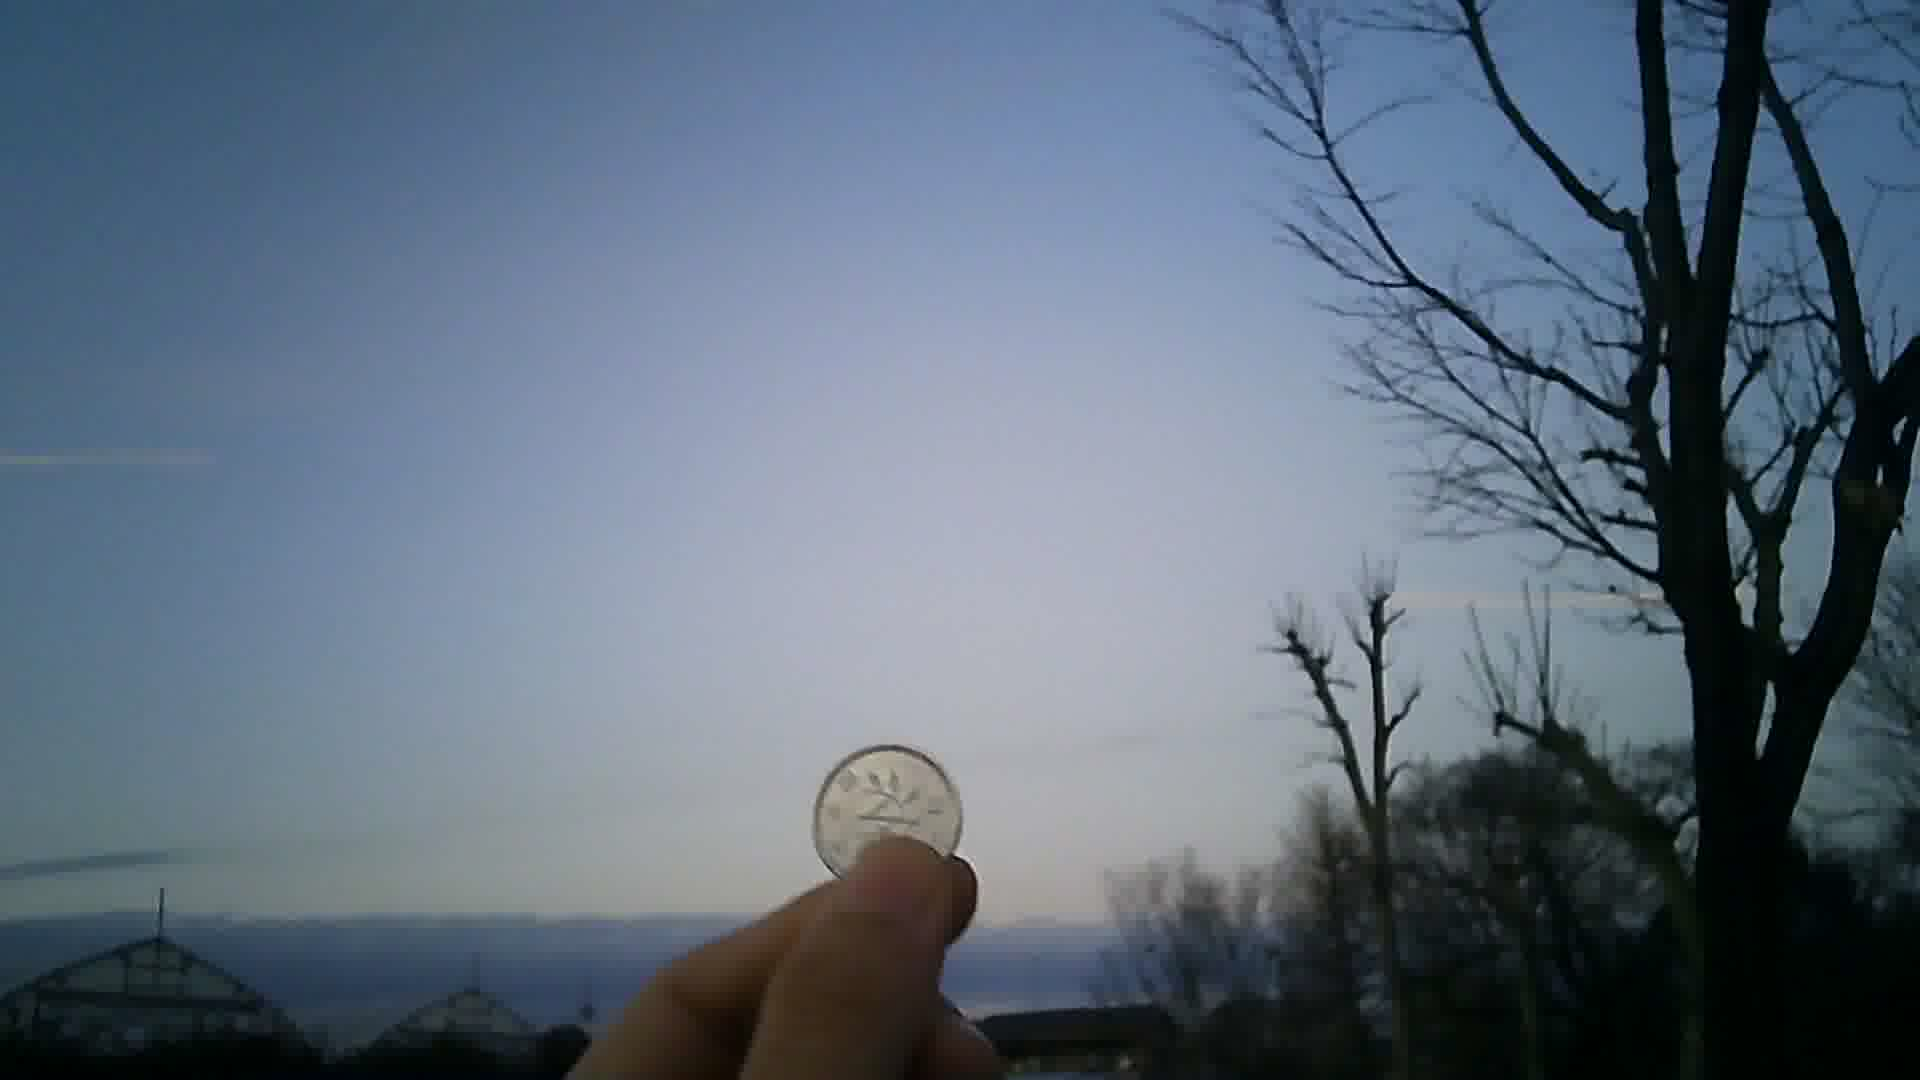1 Yen: (807, 733, 971, 887)
